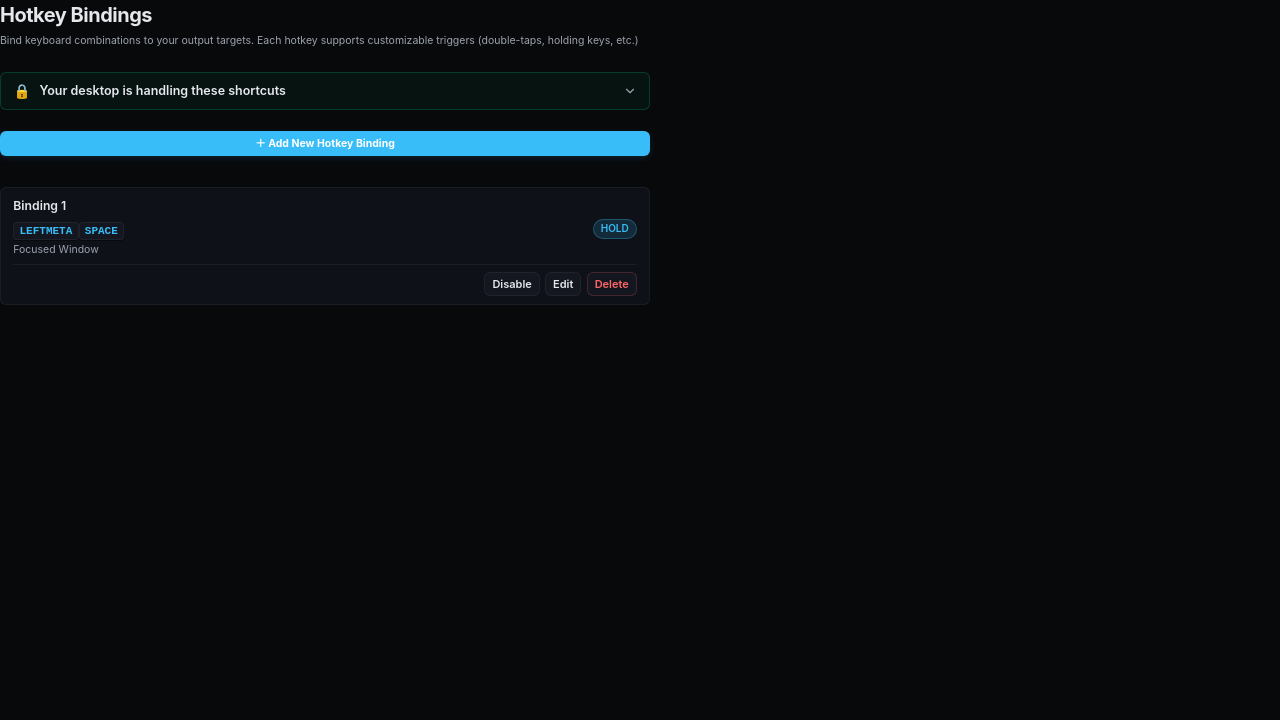
Test: HotkeysTab.svelte Conflict Detection and Nested Modal › opens nested Target modal and cancels to revert select value
Click Edit button to open Hotkey Editor modal
Click the button "Edit" at point(563, 284), box x1=545 y1=272 x2=581 y2=296
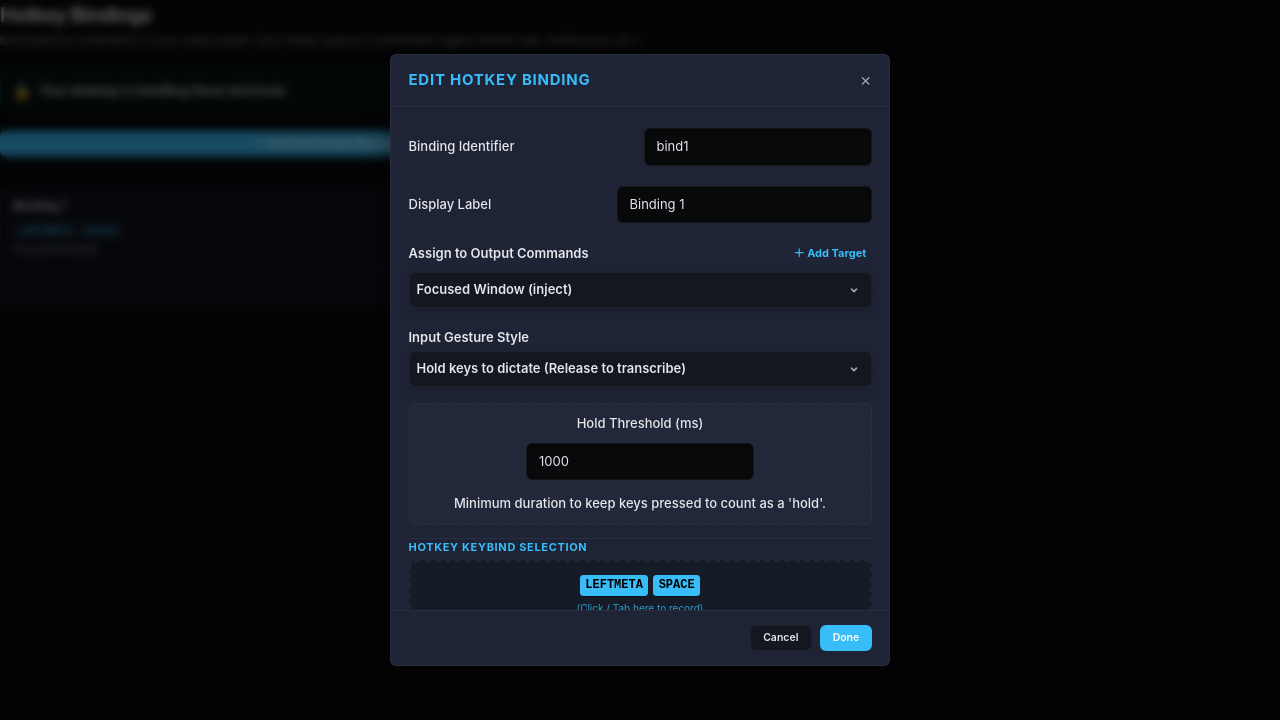
Expected: the heading "Edit Hotkey Binding" is shown, x1=408 y1=69 x2=590 y2=92
Expected: the button with class "custom-select-trigger" showing "Focused Window (inject)" is shown
Expected: the button with class "custom-select-trigger" shows "Focused Window"
Click trigger to open dropdown list
Click the button with class "custom-select-trigger" showing "Focused Window (inject)" at point(494, 289), box x1=408 y1=272 x2=872 y2=308
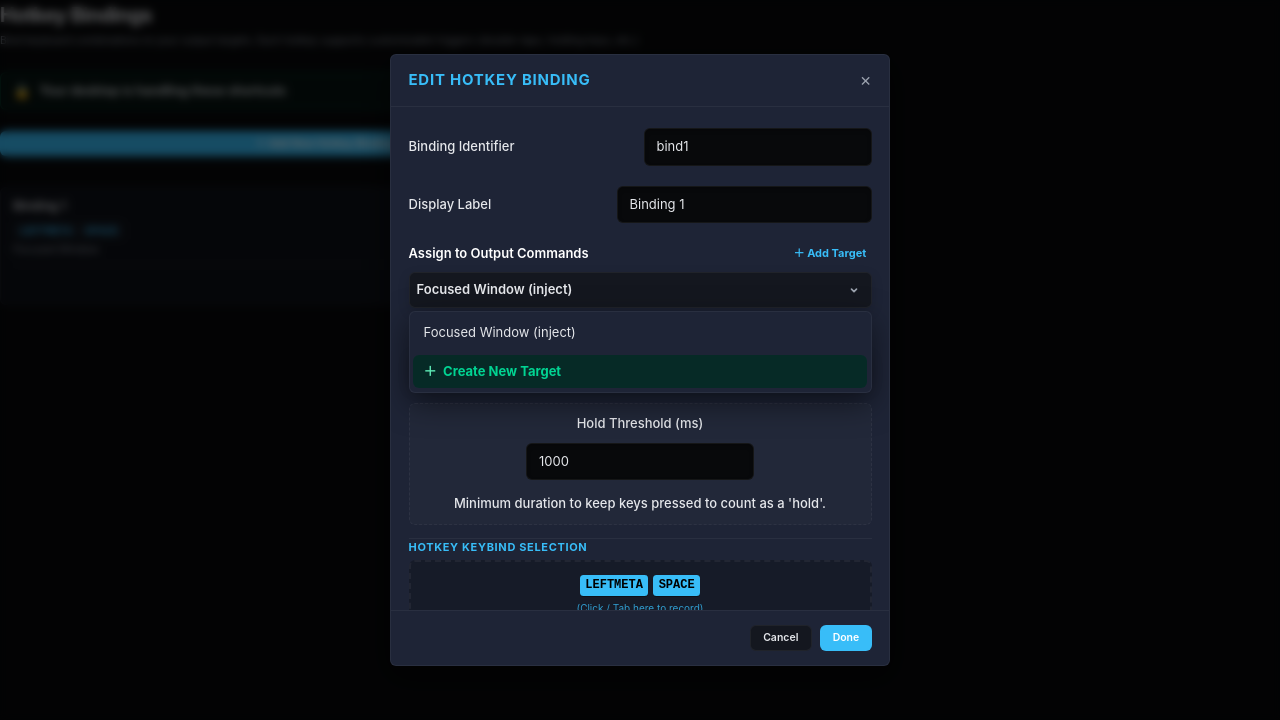
Expected: the button "＋ Create New Target" is shown
Click the button "＋ Create New Target" at point(501, 370), box x1=413 y1=354 x2=867 y2=388
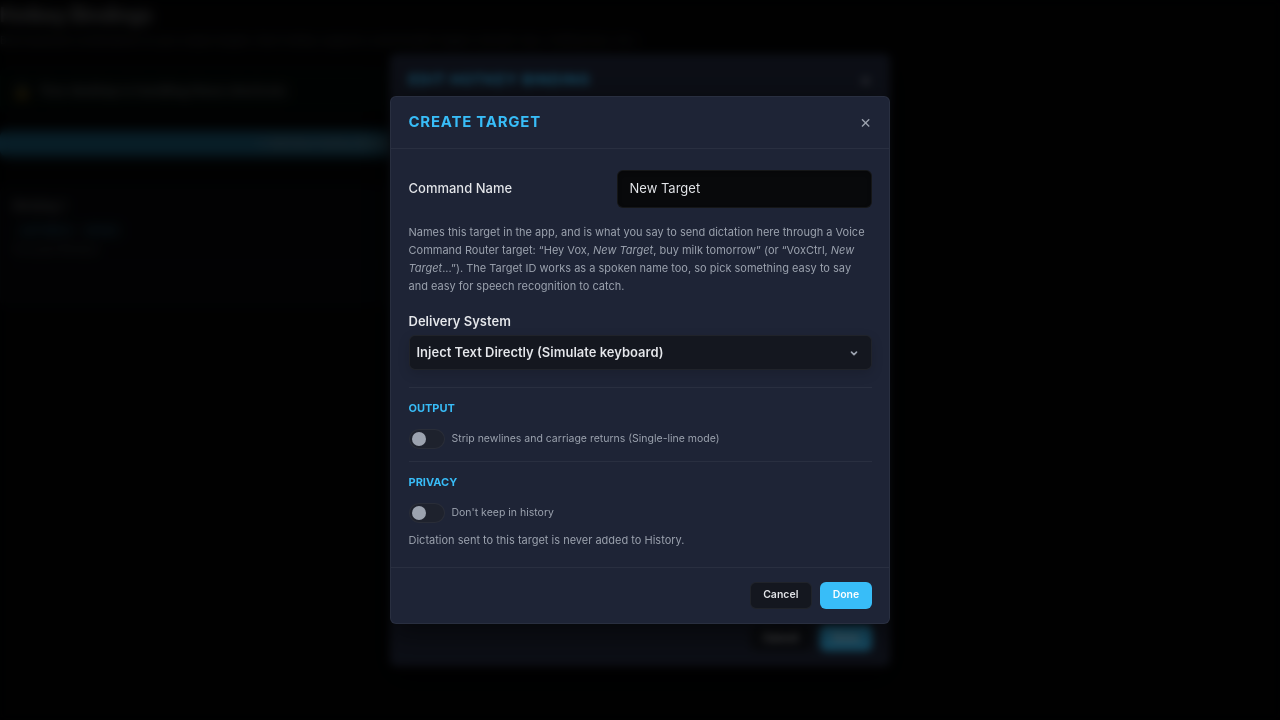
Expected: the heading "Create Target" is shown, x1=408 y1=111 x2=541 y2=134
Click Cancel button in the Target modal
Click the button "Cancel" at point(781, 595), box x1=750 y1=582 x2=812 y2=609
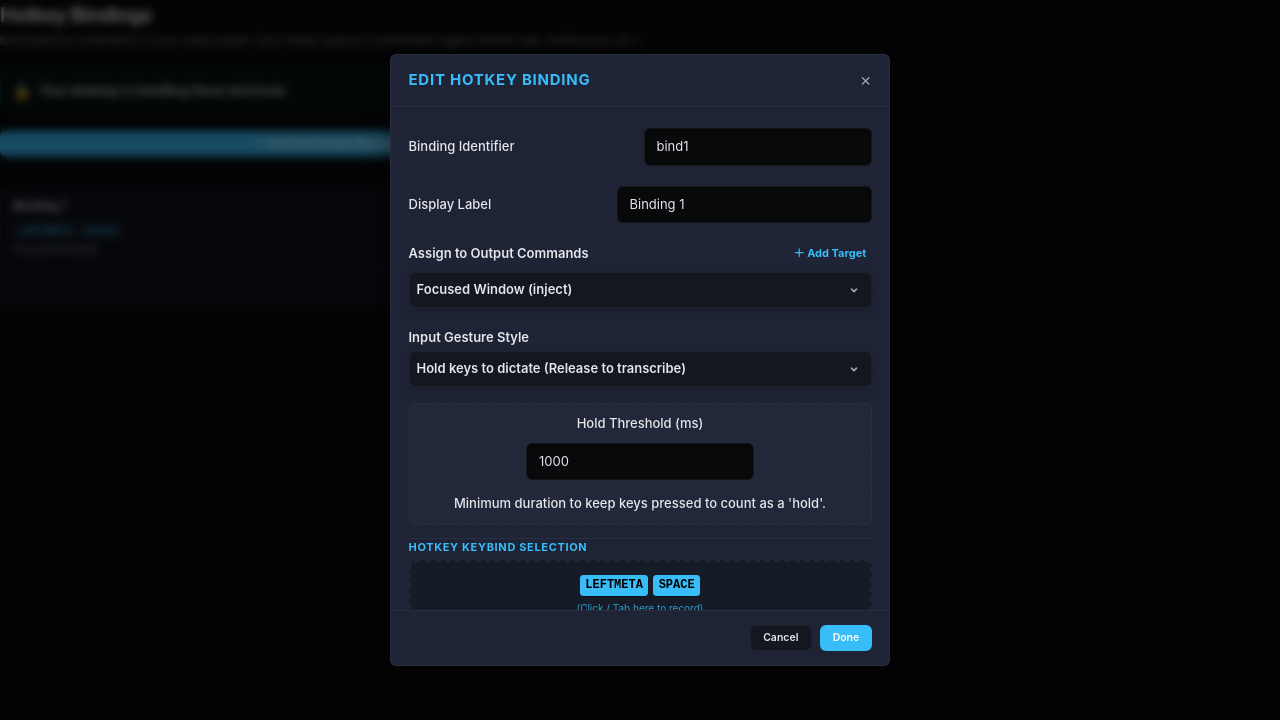
Expected: the button with class "custom-select-trigger" shows "Focused Window", x1=408 y1=272 x2=872 y2=308
Expected: the heading "Create Target" is gone
